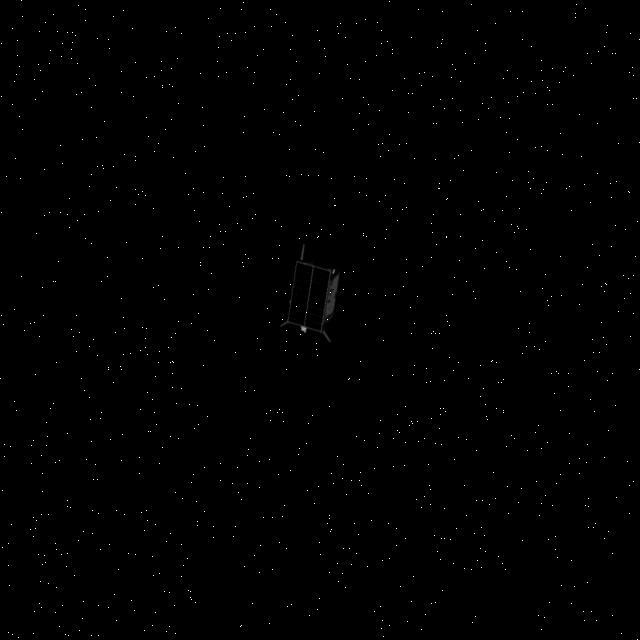satellite: (286, 250, 358, 344)
